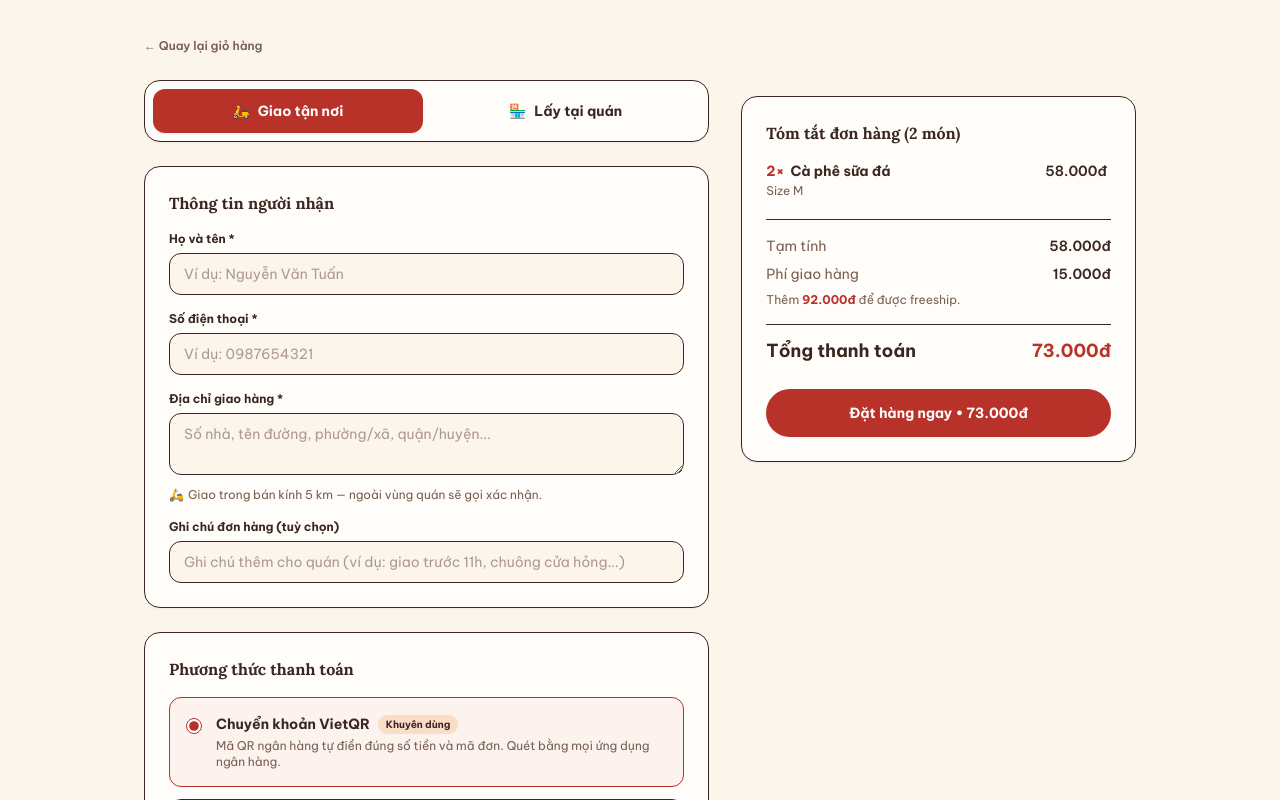
it: CheckoutForm (T8, C4, C5, C6, C9-UI) › switches to PICKUP tab and updates fields
Click the tab "🏪 Lấy tại quán".
click(566, 111)  # box [431,89,700,133]
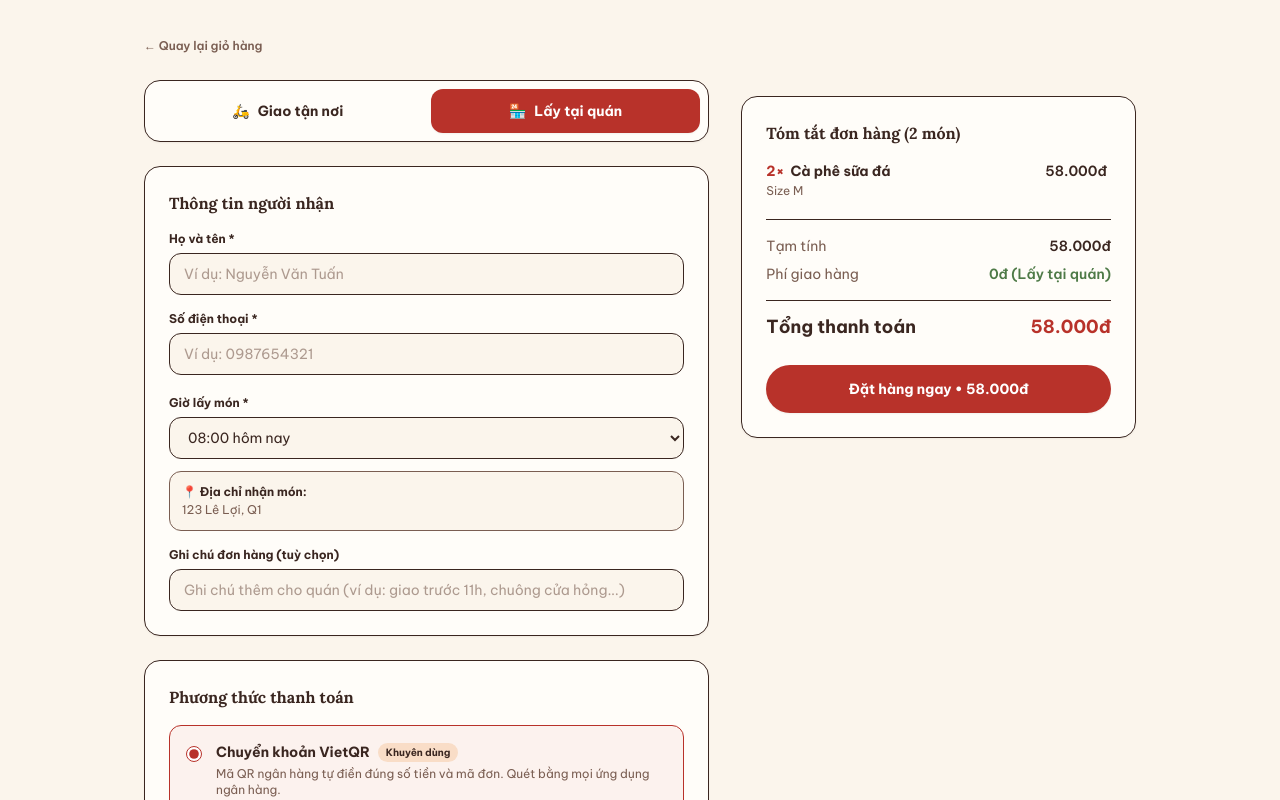
Expected: the label labelled "Địa chỉ giao hàng" is gone
Expected: the dropdown labelled "Giờ lấy món *" is shown, [169,417,684,459]
